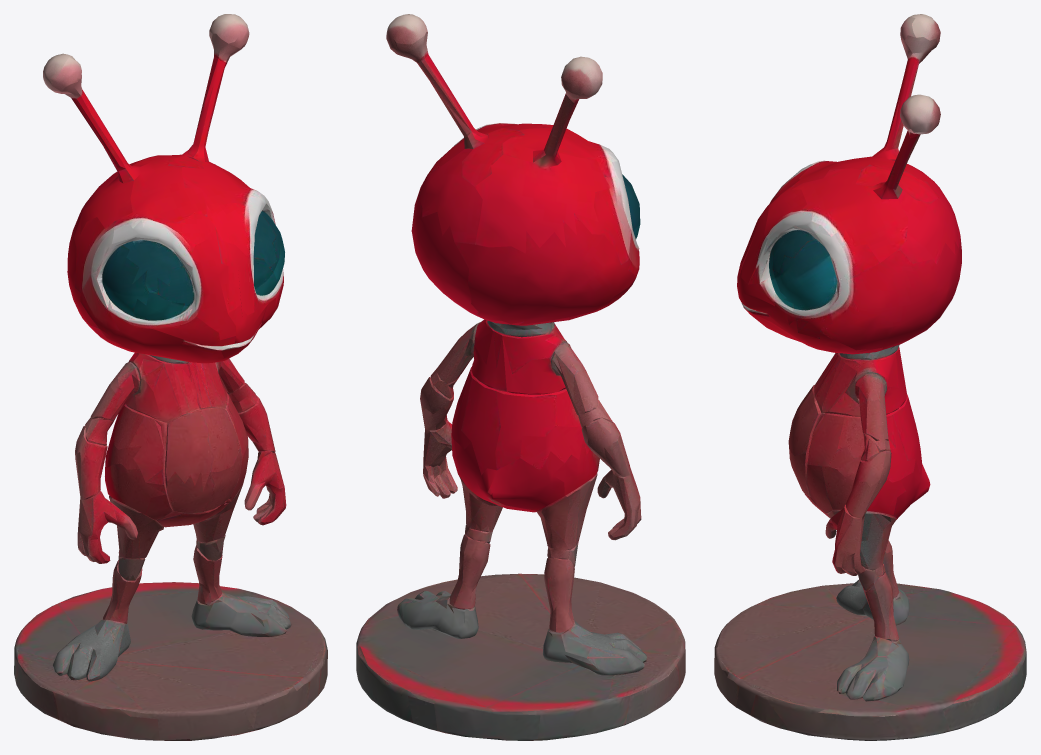
Rendered from alien.glb.
The picture shows the model from 3 angles, left to right: view 1: azimuth 30°, elevation 25°; view 2: azimuth 150°, elevation 25°; view 3: azimuth 270°, elevation 25°; orthographic projection. The views are drawn at different scales.
Size of the model in its own units: 0.8674 by 1.9 by 0.8683.
Materials: 1 (1 with a texture image).
